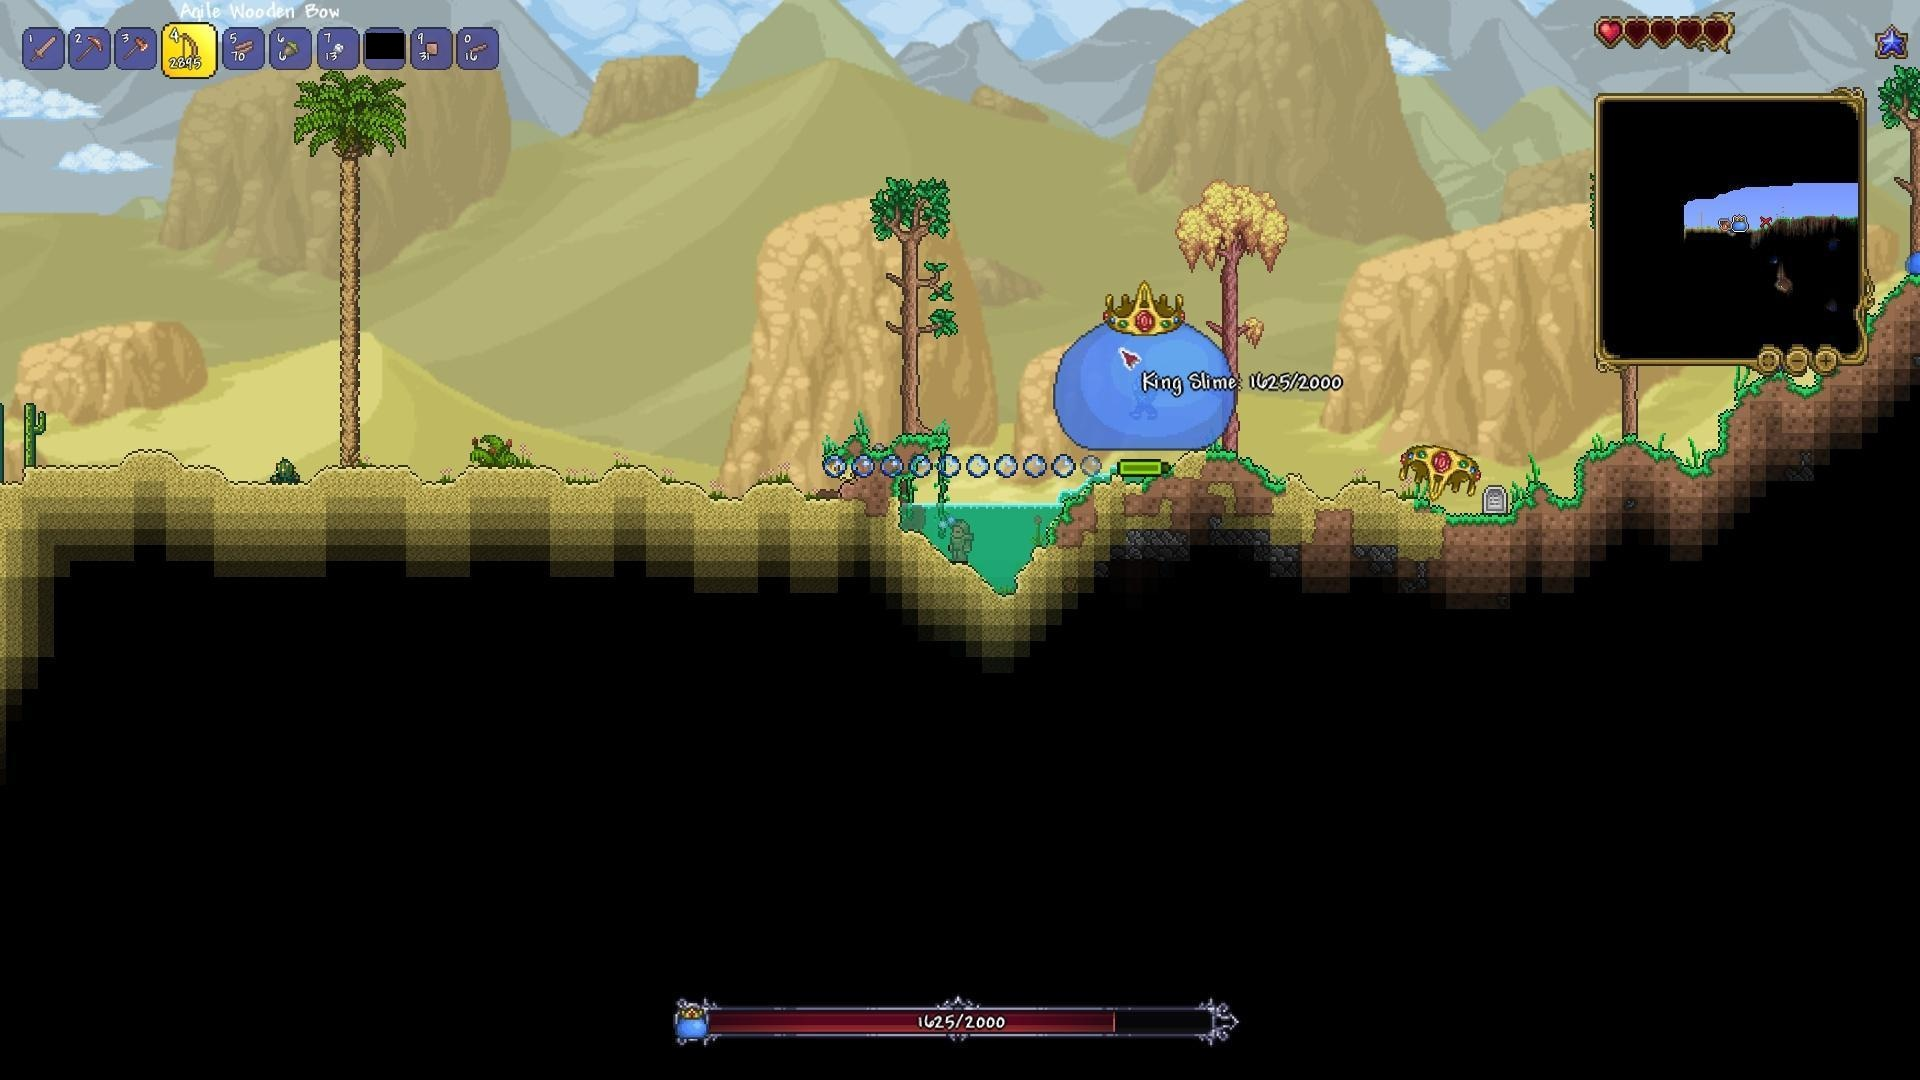slime: (1880, 32, 1909, 55), (1900, 251, 1920, 280)
wood: (228, 33, 260, 63)
